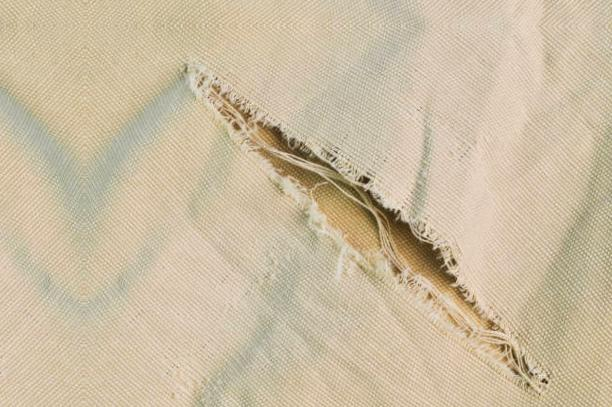hole: (177, 47, 563, 397)
